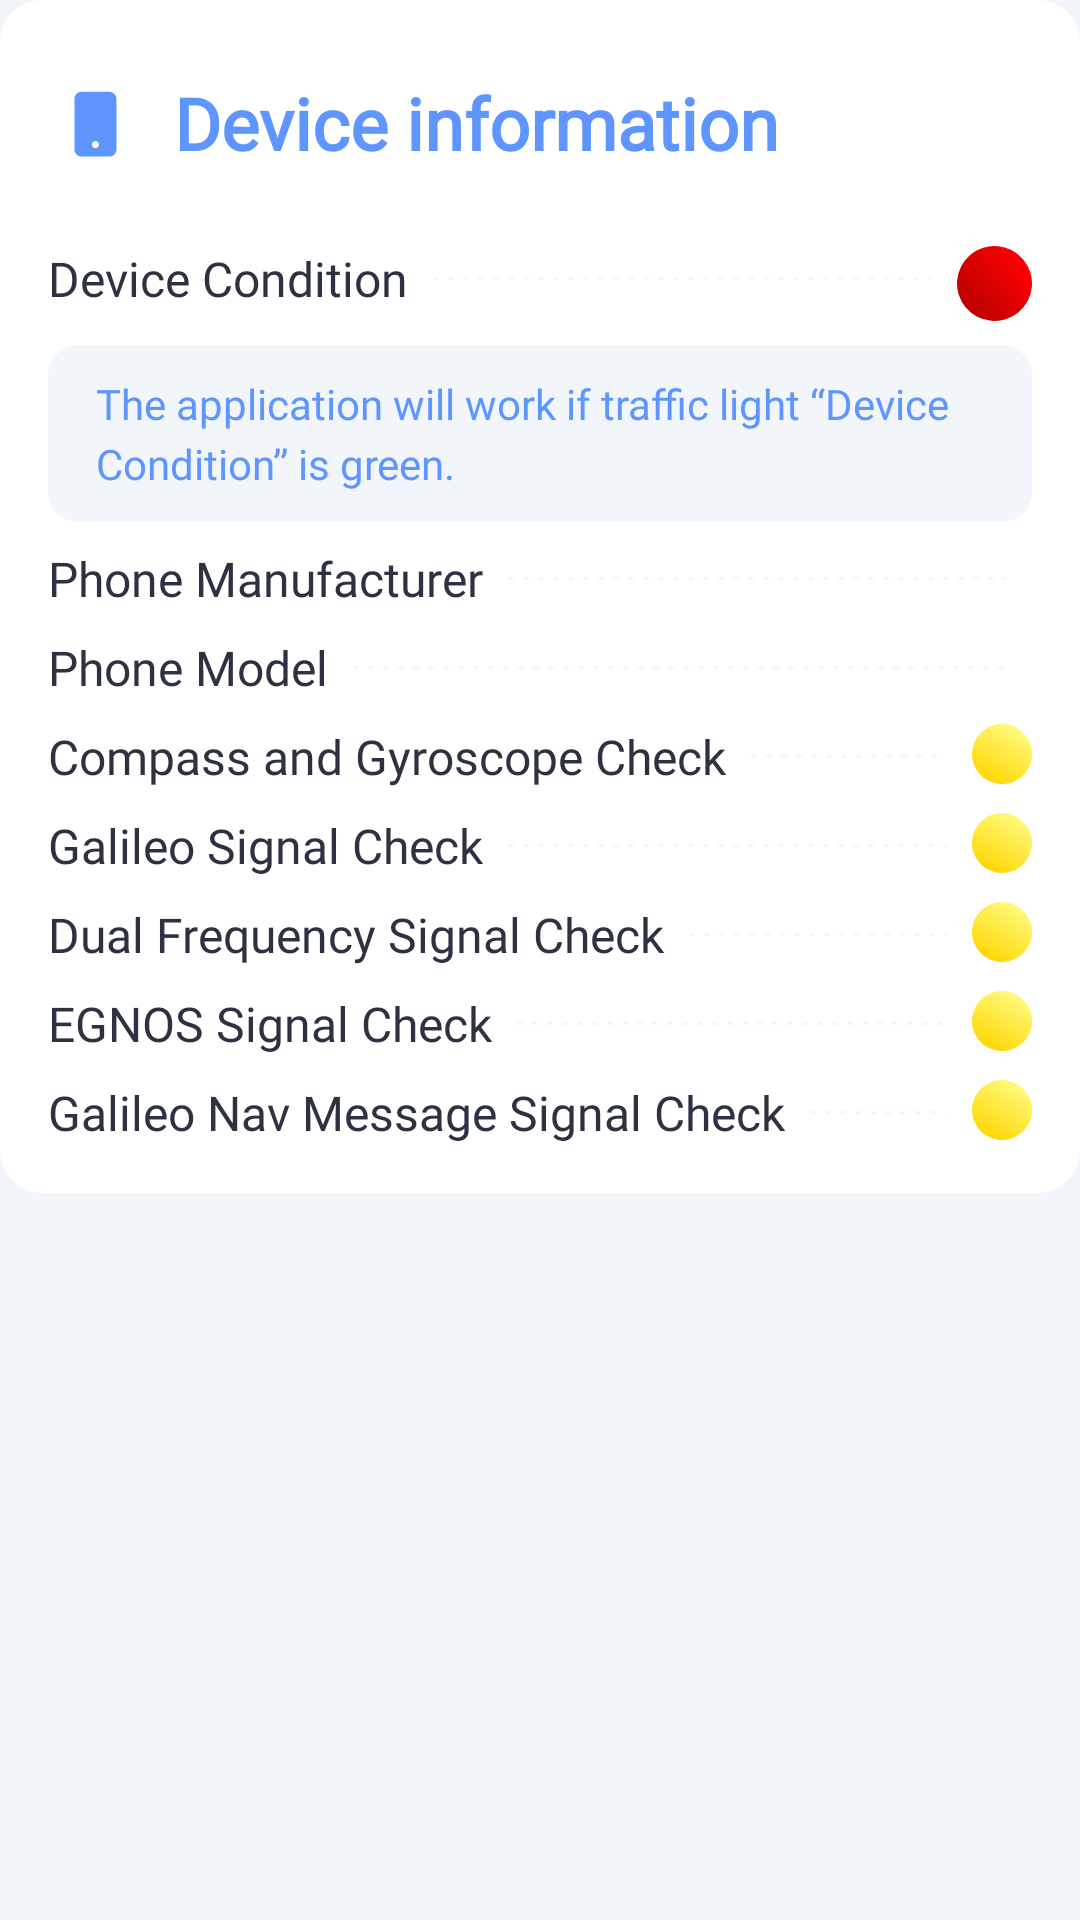

Where icons sit on this 1080 x 1920 app screen, as (x1, y1, x2, y2):
all device: (74, 91, 117, 157)
